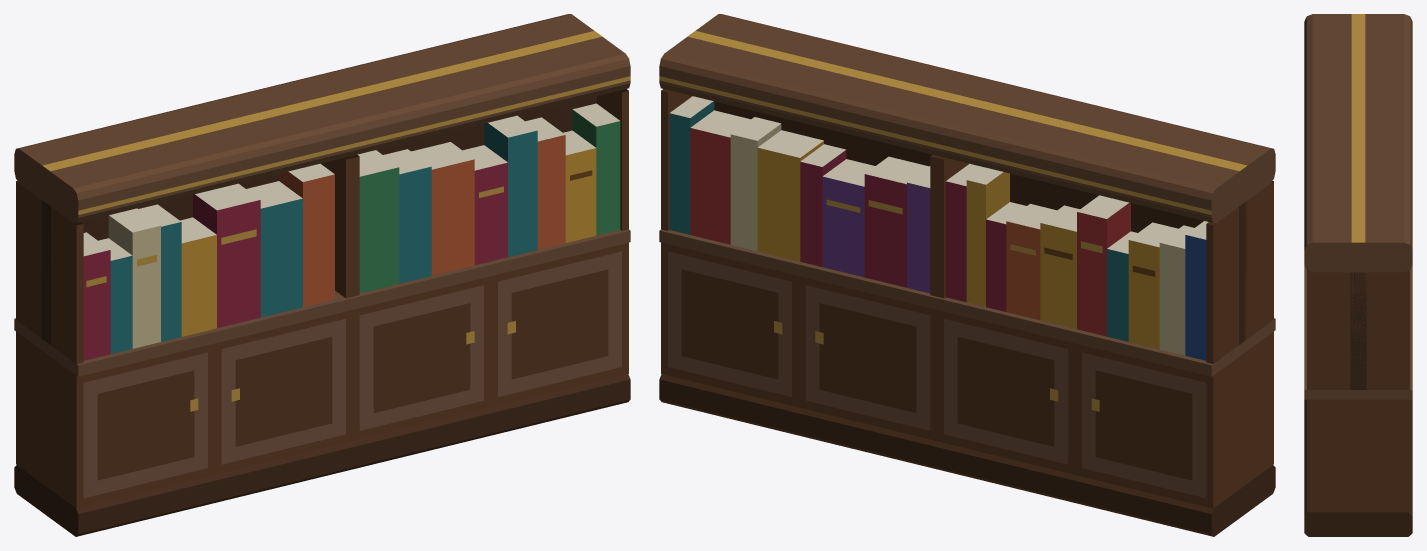
File: library-wall1.glb
3 renders of one model, left to right at view 1: azimuth 30°, elevation 25°; view 2: azimuth 150°, elevation 25°; view 3: azimuth 270°, elevation 25°, orthographic. The views are drawn at different scales.
Visible parts, largest first — view 1: library-wall1; view 2: library-wall1; view 3: library-wall1.
Part boxes in pixels (x1=…): library-wall1: x1=14, y1=14, x2=630, y2=536; library-wall1: x1=659, y1=14, x2=1275, y2=536; library-wall1: x1=1304, y1=14, x2=1412, y2=536.
Bounding box in the file's own units: 2 × 1.2 × 0.401.
